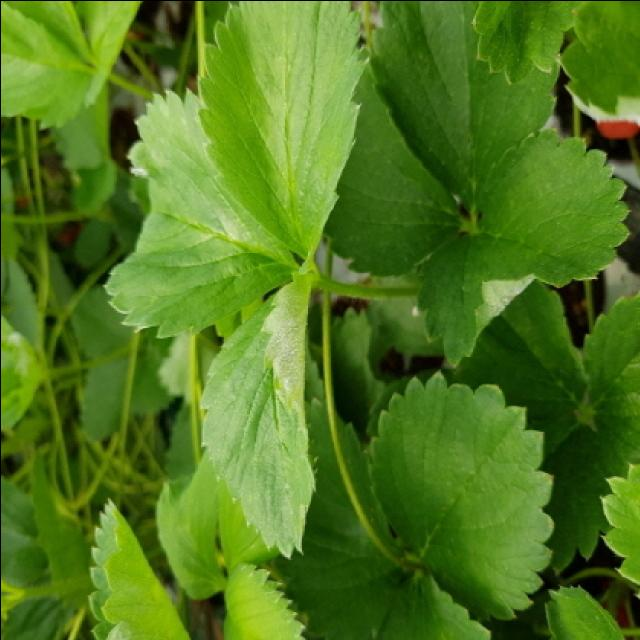Powdery Mildew Leaf: (197, 277, 316, 561)
